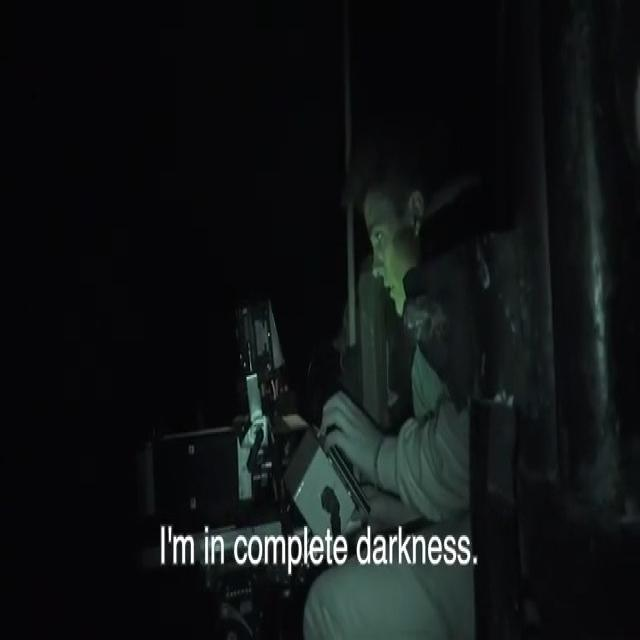device: (167, 154, 309, 633)
human: (310, 71, 537, 640)
